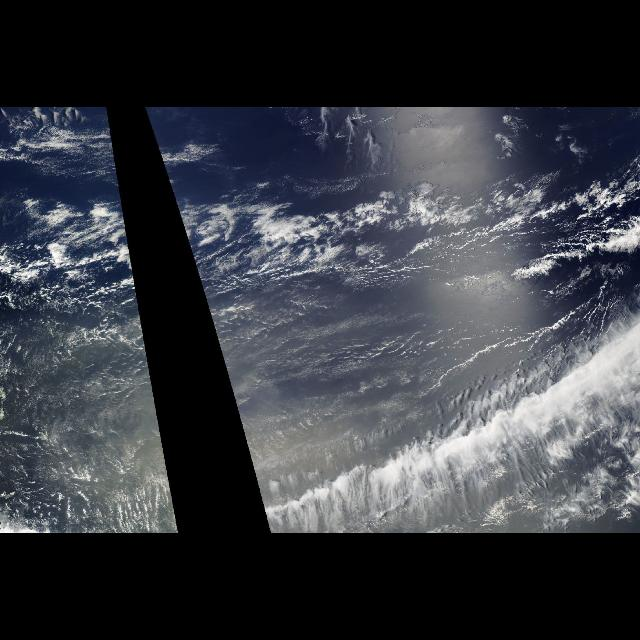Fish: (307, 318, 637, 534)
Sugar: (207, 302, 458, 530), (2, 302, 178, 530)
